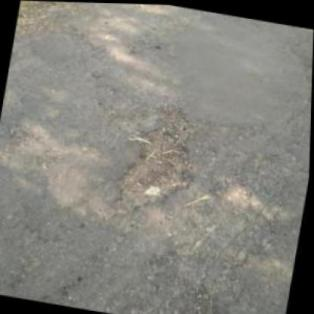Hueco: (108, 95, 209, 227)
